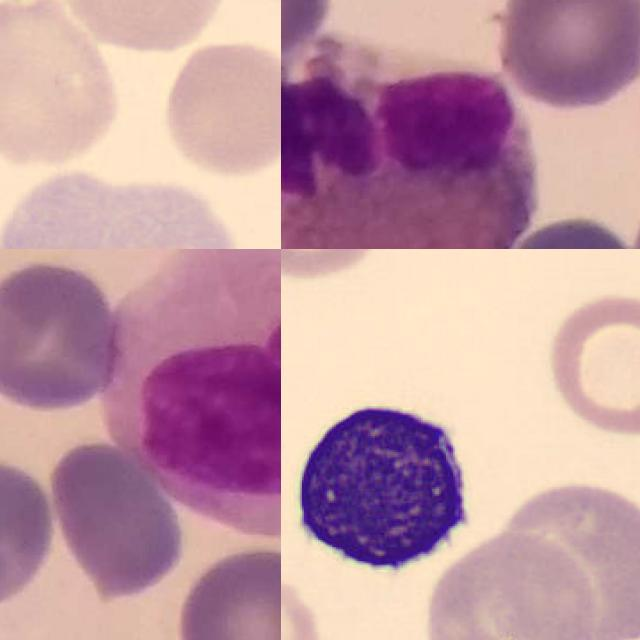Eosinophil: (281, 41, 539, 249)
Lymphocyte: (281, 388, 485, 587), (0, 170, 234, 249)
Monocyte: (101, 249, 281, 535)
RBC: (492, 471, 640, 640), (0, 0, 130, 172), (421, 527, 600, 640), (156, 37, 281, 180), (540, 288, 640, 438), (57, 0, 231, 56)
